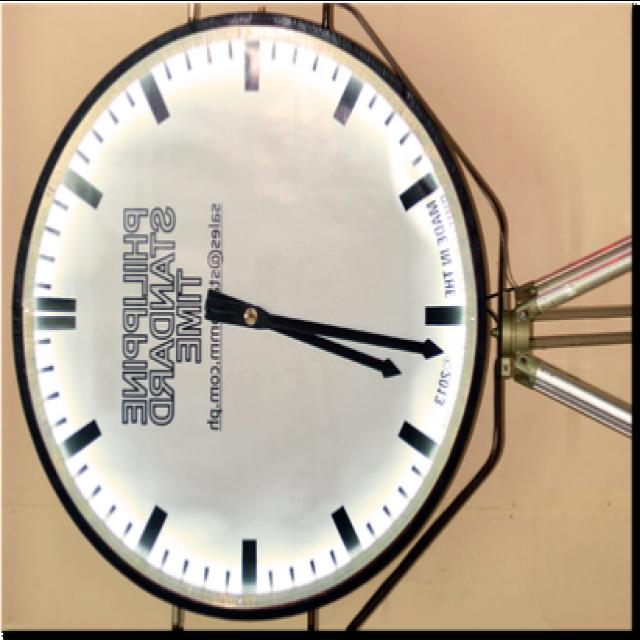clock: (0, 0, 609, 640)
